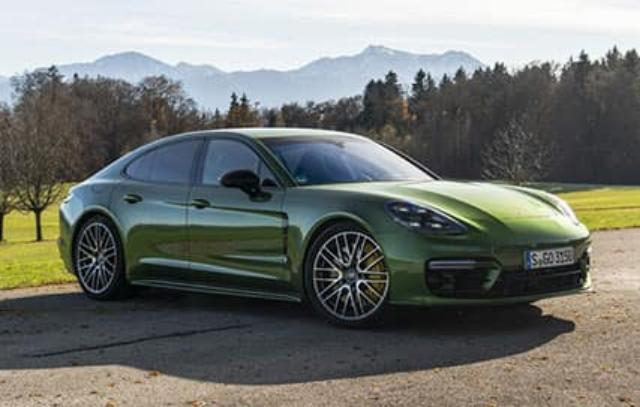porsche: (57, 128, 593, 328)
